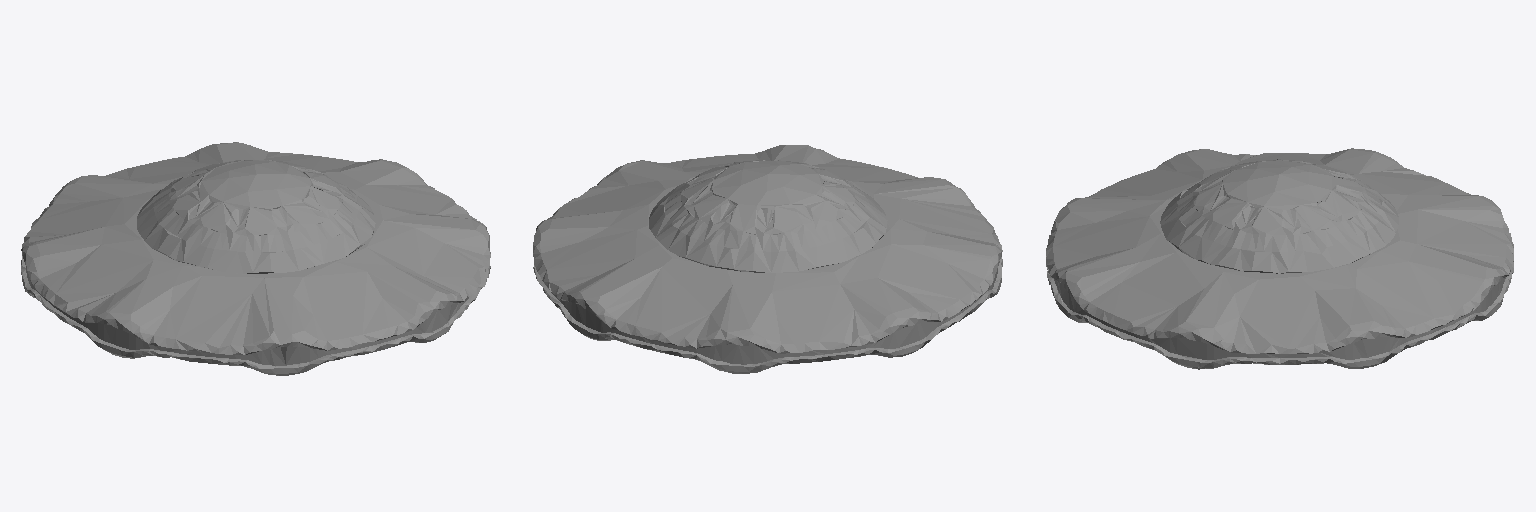
Rendered from frame_058.obj.
3 views of the same model, side by side, from view 1: azimuth 30°, elevation 25°; view 2: azimuth 150°, elevation 25°; view 3: azimuth 270°, elevation 25° (orthographic).
Parts seen in each view (by area): view 1: 13884_UFO_Saucer_v1_l2; view 2: 13884_UFO_Saucer_v1_l2; view 3: 13884_UFO_Saucer_v1_l2.
Boxes of the visible parts, box(x1,y1,x2,y2) form: 13884_UFO_Saucer_v1_l2: box(21, 142, 490, 375); 13884_UFO_Saucer_v1_l2: box(533, 145, 1002, 373); 13884_UFO_Saucer_v1_l2: box(1046, 148, 1513, 369).
Size of the model in its own units: 12.69 by 4.88 by 12.7.